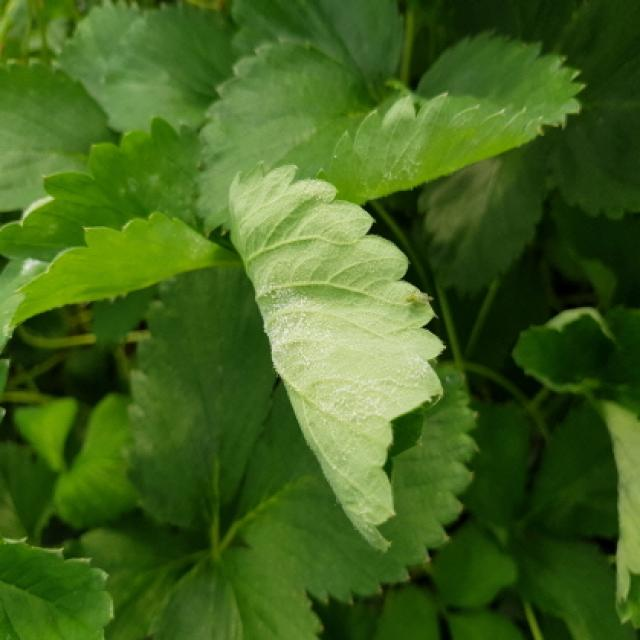Powdery Mildew Leaf: (227, 161, 450, 558), (311, 26, 589, 203)
